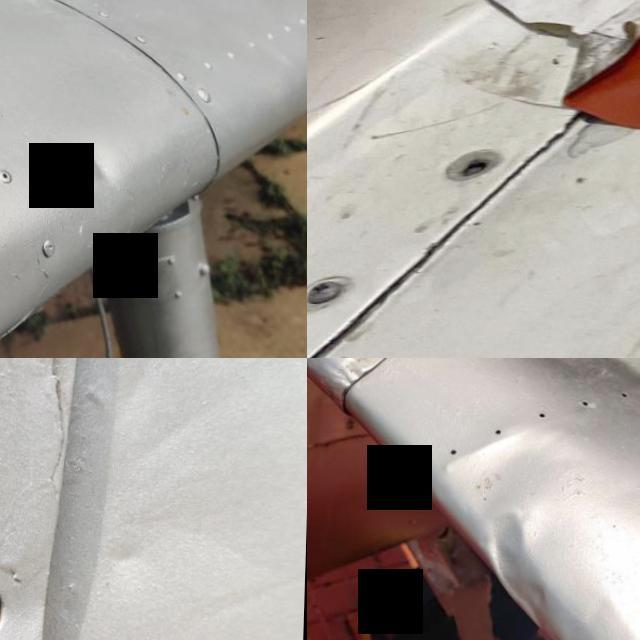Dent: (474, 490, 574, 636), (48, 107, 160, 220), (459, 358, 640, 409)
Missing_Fastener: (0, 526, 58, 640), (460, 146, 496, 176)
